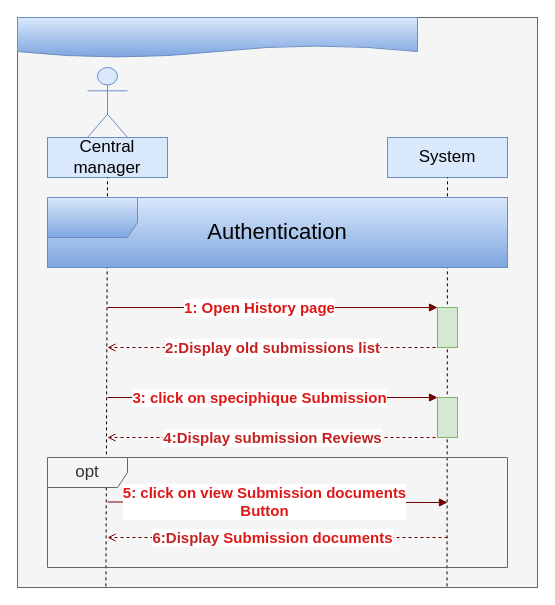
Image size: 555x605. Some labels were removed from this diagram. Here are the shapes that lost their labels. From the top down, the box of each, then its label:
(16, 16, 418, 58): Track submissions workflows History
(46, 196, 508, 268): Ref
